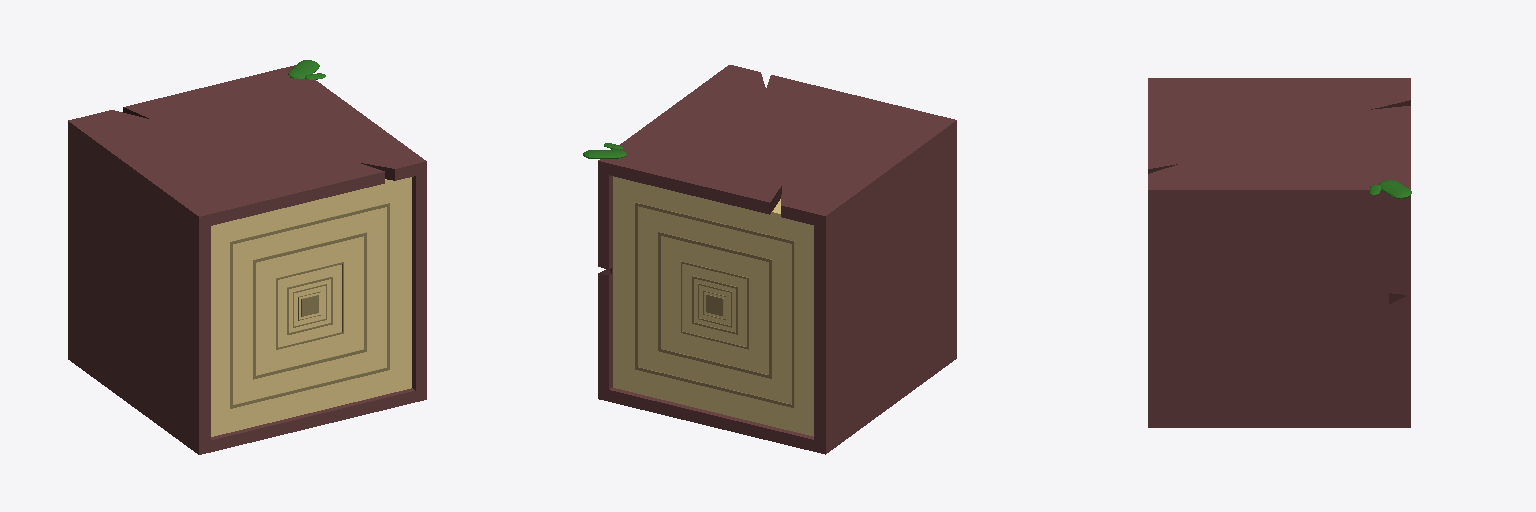
Rendered from log(2).obj.
3 renders of one model, left to right at view 1: azimuth 30°, elevation 25°; view 2: azimuth 150°, elevation 25°; view 3: azimuth 270°, elevation 25°, orthographic.
Parts seen in each view (by area): view 1: 큐브_1, 큐브, 큐브.1_6, 큐브.1_7, 큐브.1_5; view 2: 큐브_1, 큐브, 큐브.1_6, 큐브.1_7, 큐브.1_5; view 3: 큐브_1.
Boxes of the visible parts, box(x1,y1,x2,y2) form: 큐브_1: box(68, 65, 426, 454); 큐브: box(211, 177, 411, 436); 큐브.1_6: box(230, 203, 389, 408); 큐브.1_7: box(211, 176, 415, 439); 큐브.1_5: box(253, 232, 366, 379); 큐브_1: box(598, 65, 956, 454); 큐브: box(613, 176, 813, 436); 큐브.1_6: box(635, 202, 794, 407); 큐브.1_7: box(609, 175, 813, 439); 큐브.1_5: box(658, 232, 771, 378); 큐브_1: box(1148, 78, 1410, 427).
Size of the model in its own units: 216 by 203 by 201.